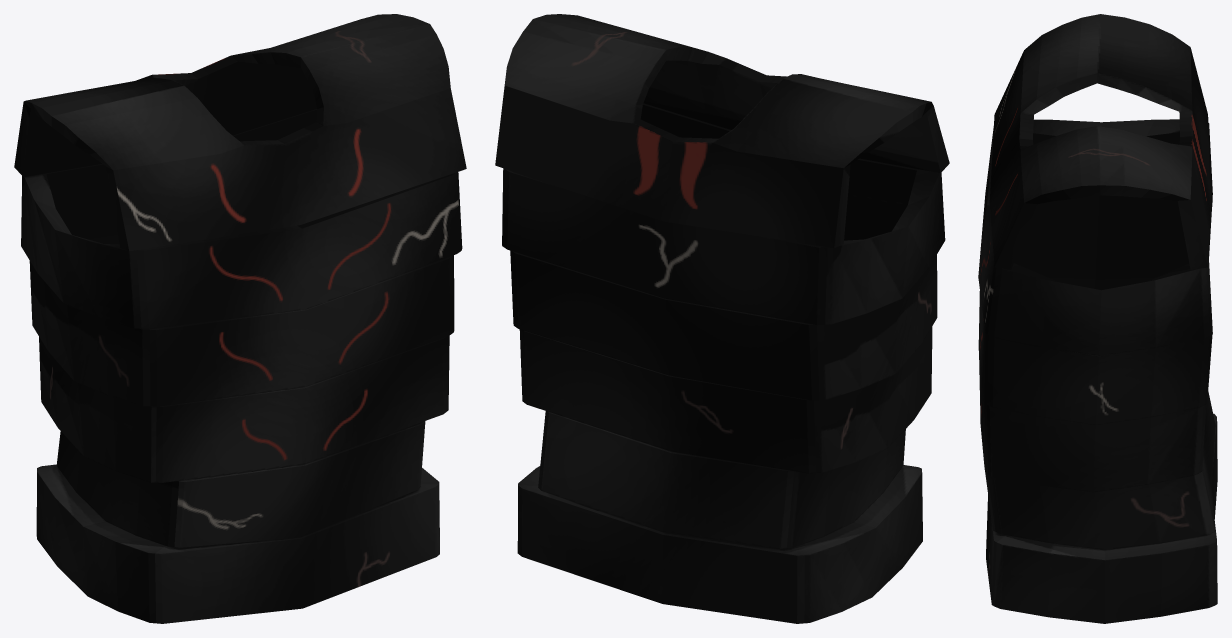
The model's file is PancerzMroku.fbx.
The picture shows the model from 3 angles, left to right: view 1: azimuth 30°, elevation 25°; view 2: azimuth 150°, elevation 25°; view 3: azimuth 270°, elevation 25°; orthographic projection. The views are drawn at different scales.
Parts seen in each view (by area): view 1: Cube; view 2: Cube; view 3: Cube.
Part boxes in pixels (x1,y1,x2,y2): Cube: (14,14,466,623); Cube: (495,14,949,623); Cube: (978,14,1217,623).
Bounding box in the file's own units: 110 × 137 × 64.84.
1 material, 1 textured.
